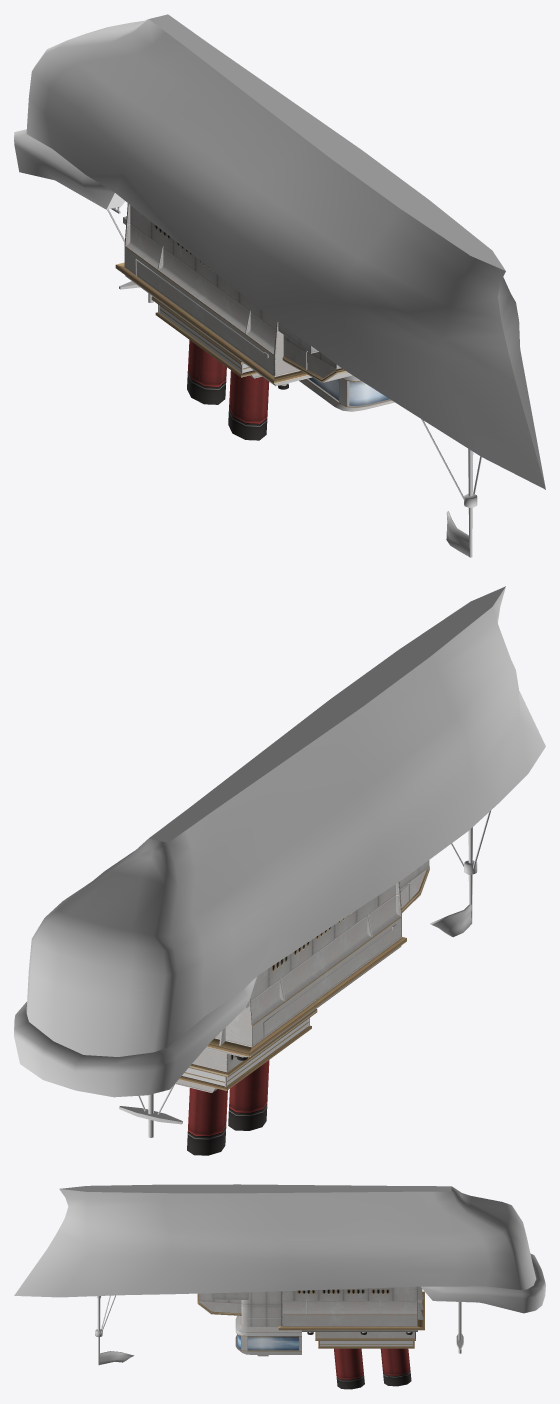
The model's file is ship.obj.
3 renders of one model, top to bottom at view 1: azimuth 30°, elevation 25°; view 2: azimuth 150°, elevation 25°; view 3: azimuth 270°, elevation 25°, orthographic. The views are drawn at different scales.
Visible parts, largest first — view 1: FerrymanShip_2, FerrymanShip_0, FerrymanShip_4, FerrymanShip_3, FerrymanShip_5, FerrymanShip_1; view 2: FerrymanShip_2, FerrymanShip_0, FerrymanShip_4, FerrymanShip_3, FerrymanShip_5, FerrymanShip_1; view 3: FerrymanShip_2, FerrymanShip_0, FerrymanShip_4, FerrymanShip_5, FerrymanShip_3, FerrymanShip_1.
Boxes of the visible parts, bbox=[...] form: FerrymanShip_2: bbox=[26, 19, 545, 556]; FerrymanShip_0: bbox=[14, 14, 505, 557]; FerrymanShip_4: bbox=[123, 216, 394, 411]; FerrymanShip_3: bbox=[187, 340, 389, 440]; FerrymanShip_5: bbox=[124, 203, 394, 411]; FerrymanShip_1: bbox=[115, 246, 391, 408]; FerrymanShip_2: bbox=[26, 587, 545, 1056]; FerrymanShip_0: bbox=[14, 586, 505, 1137]; FerrymanShip_4: bbox=[176, 870, 426, 1091]; FerrymanShip_3: bbox=[187, 1056, 269, 1155]; FerrymanShip_5: bbox=[175, 860, 429, 1092]; FerrymanShip_1: bbox=[179, 866, 429, 1090]; FerrymanShip_2: bbox=[14, 1186, 536, 1364]; FerrymanShip_0: bbox=[60, 1184, 545, 1365]; FerrymanShip_4: bbox=[198, 1286, 422, 1354]; FerrymanShip_5: bbox=[198, 1286, 423, 1356]; FerrymanShip_3: bbox=[237, 1332, 412, 1389]; FerrymanShip_1: bbox=[197, 1291, 424, 1351].
Size of the model in its own units: 1.27 by 2.47 by 6.04.
